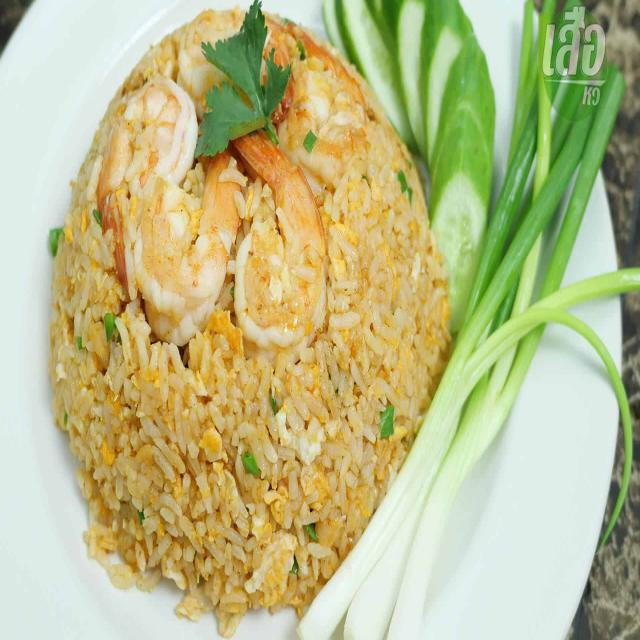carb: (59, 278, 371, 598), (285, 27, 436, 396)
fried rice: (62, 45, 430, 578)
meat: (120, 98, 238, 360), (246, 105, 332, 375)
vegetable: (100, 307, 124, 349), (246, 443, 263, 493), (377, 404, 397, 446)
